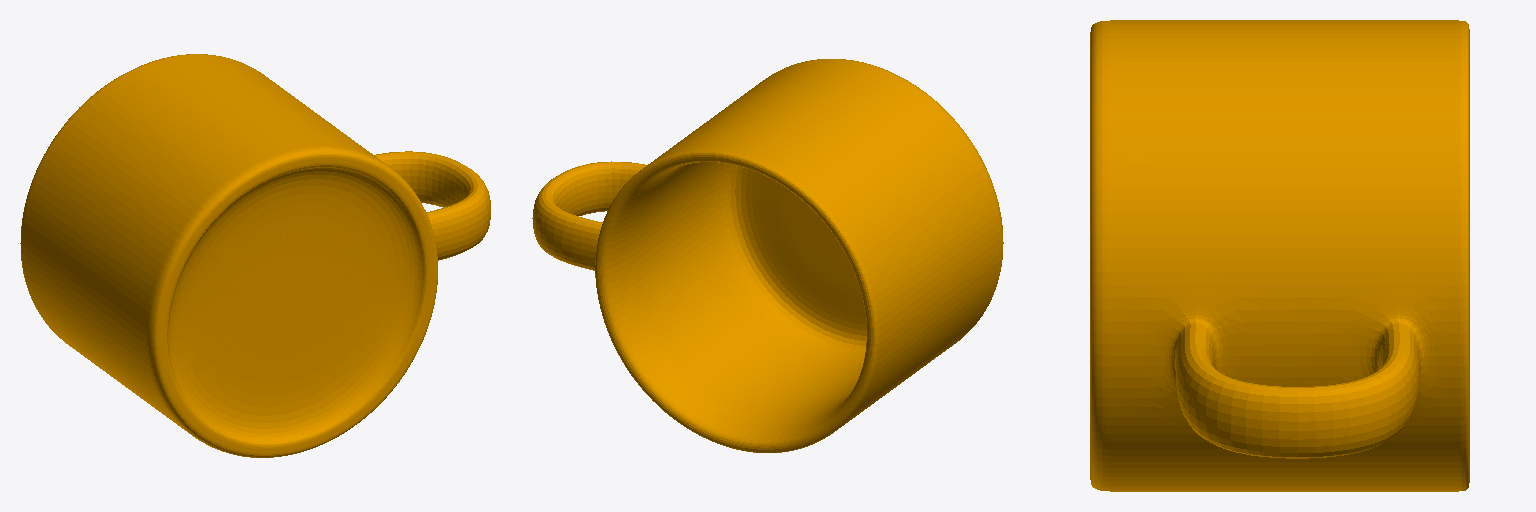
The robot description file, URDF, robot "mujoco_mug":
<robot name="mujoco_mug">
  <link name="base">
    <visual><geometry><mesh filename="mujoco_mug.normalized.obj"/></geometry></visual>
    <collision><geometry><mesh filename="mujoco_mug.collision_box.obj"/></geometry></collision>
  </link>
</robot>

--- What the picture shows (computed from the rendered views, not written in the file) ---
Views: 3 orthographic renders of the robot side by side, from view 1: azimuth 30°, elevation 25°; view 2: azimuth 150°, elevation 25°; view 3: azimuth 270°, elevation 25°.
Model mujoco_mug with 1 links and 0 joints (none), rooted at base, posed all joints at 0.
Visible links, largest first — view 1: base; view 2: base; view 3: base.
Link boxes in pixels (left/top/right/bottom): base: left=20, top=54, right=490, bottom=457; base: left=532, top=59, right=1003, bottom=452; base: left=1090, top=20, right=1469, bottom=491.
Size in the robot's own frame: 1 by 0.5837 by 0.7254 metres.
Meshes: 1 distinct files referenced, 1 mesh visuals loaded (1 OBJ).
